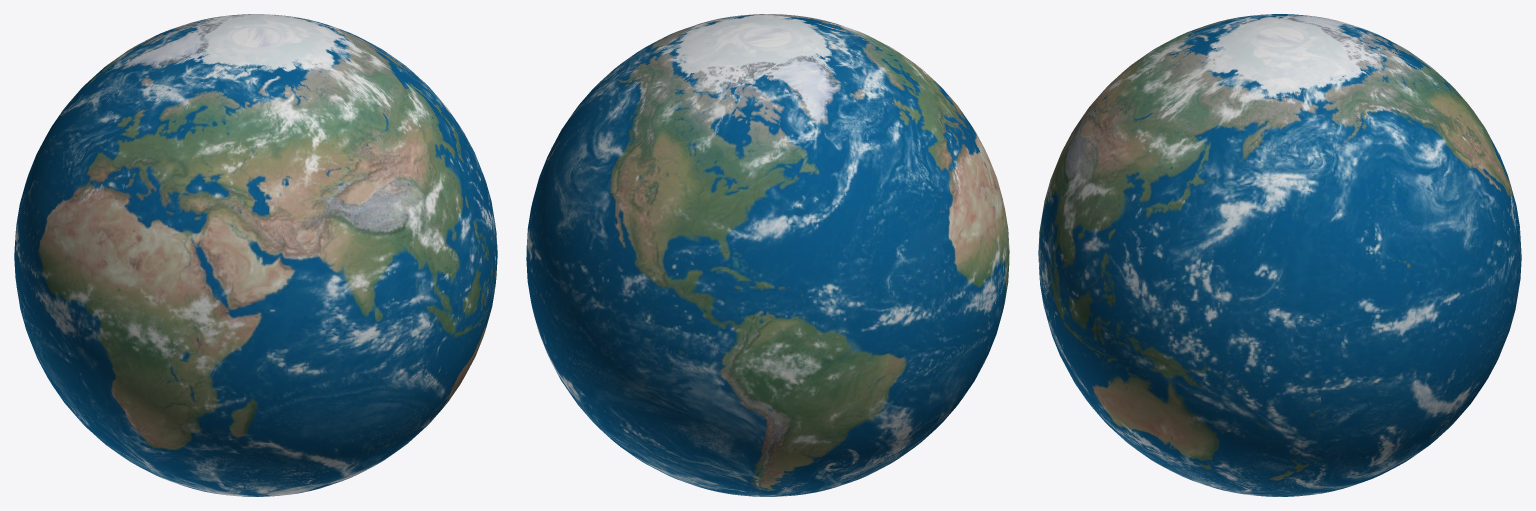
File: Earth.gltf
The picture shows the model from 3 angles, left to right: view 1: azimuth 30°, elevation 25°; view 2: azimuth 150°, elevation 25°; view 3: azimuth 270°, elevation 25°; orthographic projection.
Parts seen in each view (by area): view 1: Earth; view 2: Earth; view 3: Earth.
Boxes of the visible parts, left/top/right/bottom form: Earth: left=14, top=14, right=497, bottom=496; Earth: left=526, top=14, right=1009, bottom=496; Earth: left=1038, top=14, right=1521, bottom=496.
Size of the model in its own units: 39.99 by 39.81 by 39.99.
1 material, 1 textured.
